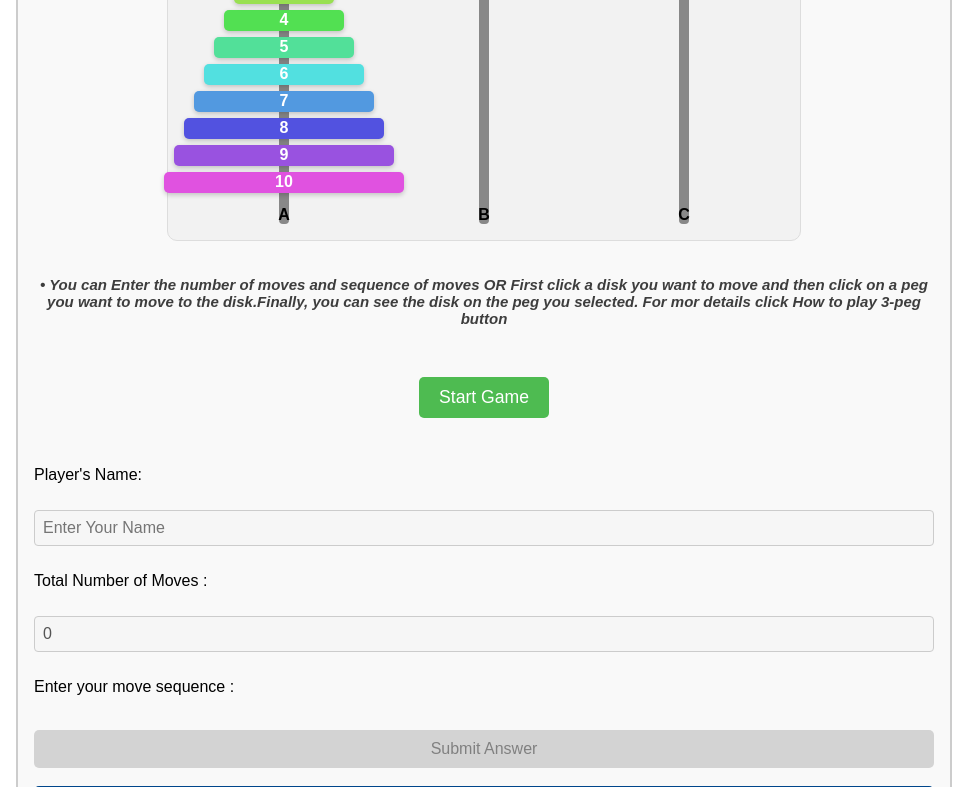
Test: TowerOfHanoi handleStart functionality › starts the game by enabling form fields and timer
(page scrolled)
Check: the field with placeholder "Enter Your Name" is disabled, box 34,510 -> 934,546
Check: the number field with placeholder "Enter Your Move Count (e.g. 7)" is disabled, box 34,616 -> 934,652
# Click Start Game button
Click the button "Start Game": x=484, y=398 419,377 -> 549,418
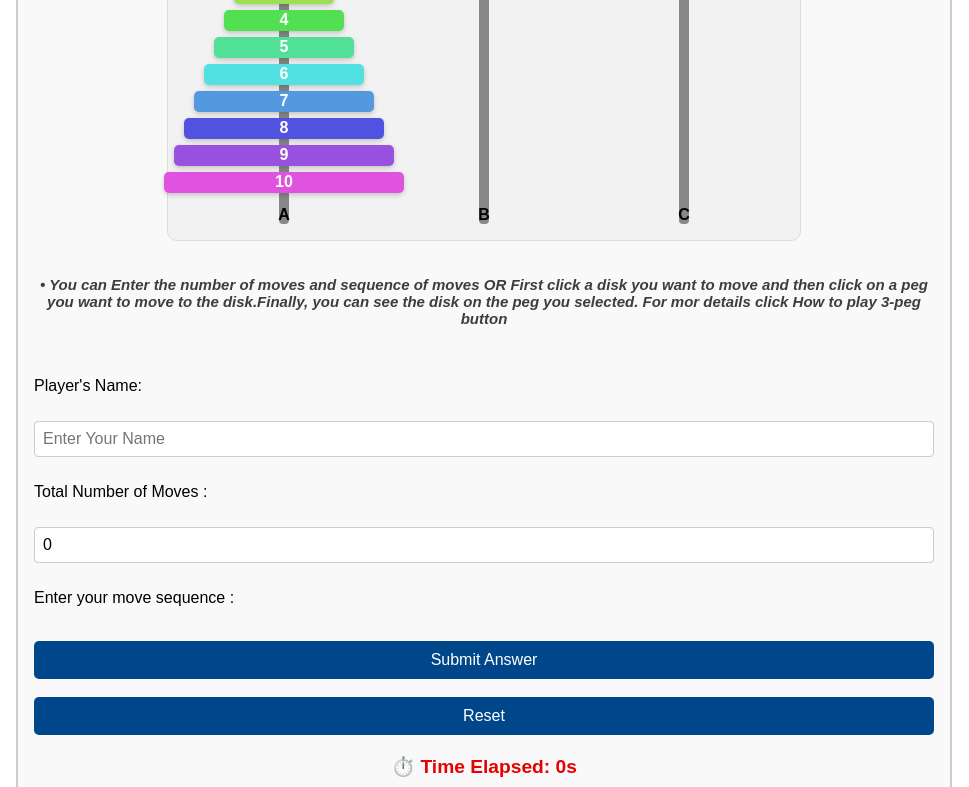
Check: the field with placeholder "Enter Your Name" is enabled, box 34,421 -> 934,457
Check: the number field with placeholder "Enter Your Move Count (e.g. 7)" is enabled, box 34,527 -> 934,563
Check: the button "Submit Answer" is enabled, box 34,641 -> 934,679
